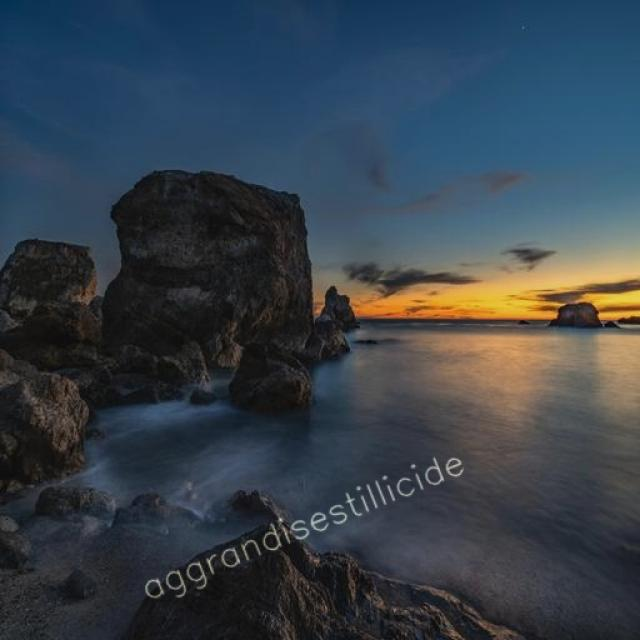watermark: (137, 442, 466, 606)
